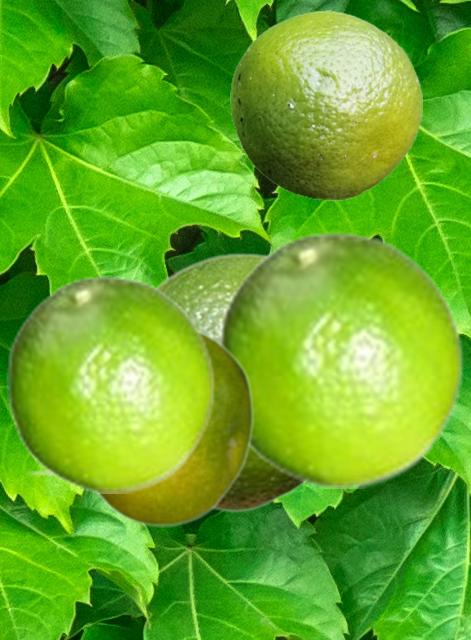calamansi: (217, 230, 464, 487), (6, 274, 215, 492), (25, 328, 253, 526), (155, 252, 304, 512), (230, 10, 421, 199)
